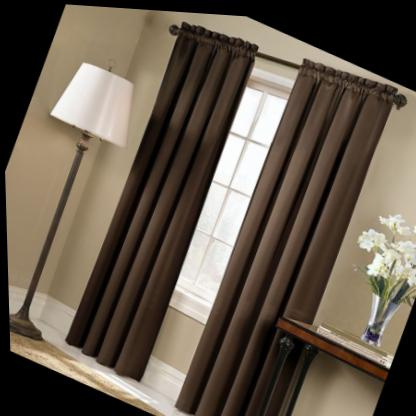Curtains: (172, 54, 406, 416), (62, 19, 257, 380)
